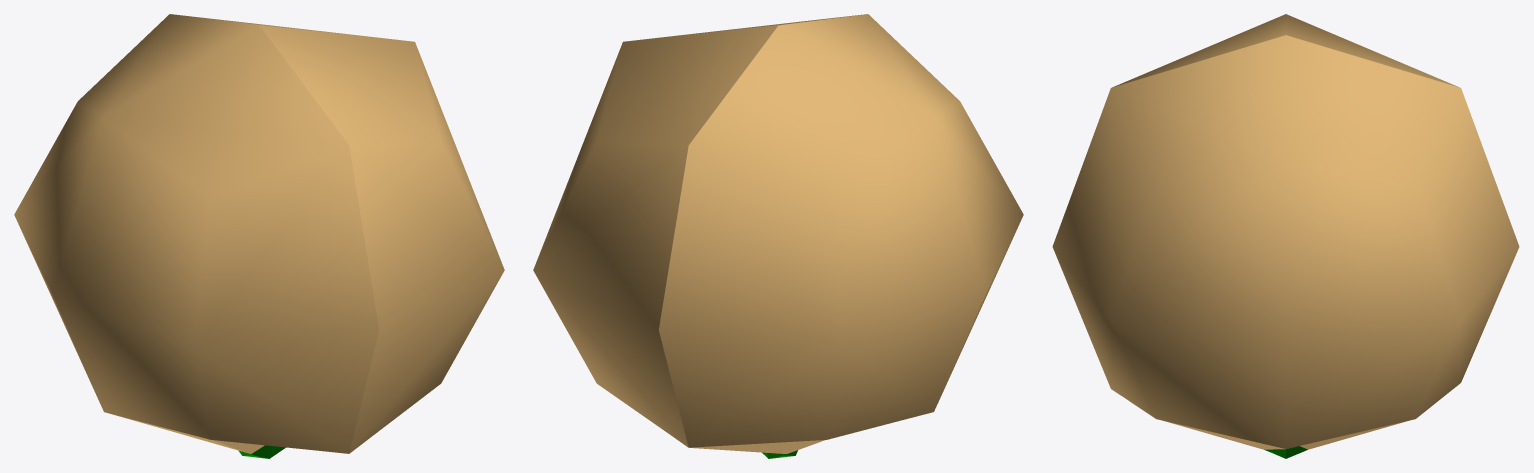
File: spinningorangev2.fbx
3 views of the same model, side by side, from view 1: azimuth 30°, elevation 25°; view 2: azimuth 150°, elevation 25°; view 3: azimuth 270°, elevation 25° (orthographic). The views are drawn at different scales.
Parts seen in each view (by area): view 1: polySurface3; view 2: polySurface3; view 3: polySurface3.
Part boxes in pixels (x1,y1,x2,y2): polySurface3: (14,14,504,458); polySurface3: (533,14,1023,458); polySurface3: (1052,14,1519,458).
Bounding box in the file's own units: 2.22 × 2.21 × 2.22.
